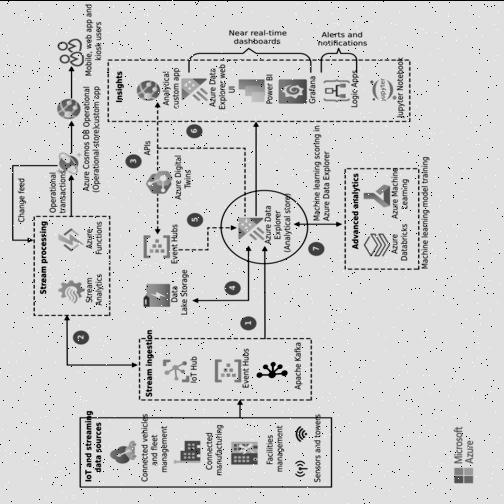actor: (54, 2, 100, 79)
compute: (57, 278, 93, 305), (57, 227, 93, 253), (54, 94, 90, 120), (188, 77, 224, 103), (236, 77, 272, 103), (320, 77, 356, 103), (364, 77, 400, 103), (359, 230, 395, 256), (359, 181, 395, 207), (137, 77, 172, 103), (275, 77, 310, 103)
data_flow: (188, 56, 316, 60), (177, 299, 270, 302), (243, 178, 247, 246), (65, 314, 69, 366), (155, 122, 159, 168), (68, 363, 128, 366), (247, 260, 251, 302), (193, 176, 197, 217), (262, 299, 266, 340), (300, 226, 352, 229), (155, 194, 159, 230), (31, 195, 72, 198), (152, 218, 193, 221), (70, 201, 74, 228), (70, 131, 74, 158), (70, 77, 74, 96), (186, 58, 190, 74), (316, 58, 320, 74), (240, 408, 244, 423)
database_storage: (226, 189, 303, 266), (54, 150, 90, 177), (139, 281, 175, 307)
network_security: (157, 356, 193, 382), (213, 356, 249, 382), (254, 356, 290, 382), (139, 230, 175, 256), (139, 168, 175, 194)
trust_boundary: (56, 415, 352, 488), (105, 58, 412, 122), (137, 334, 316, 402), (34, 215, 111, 317), (344, 169, 420, 270)
